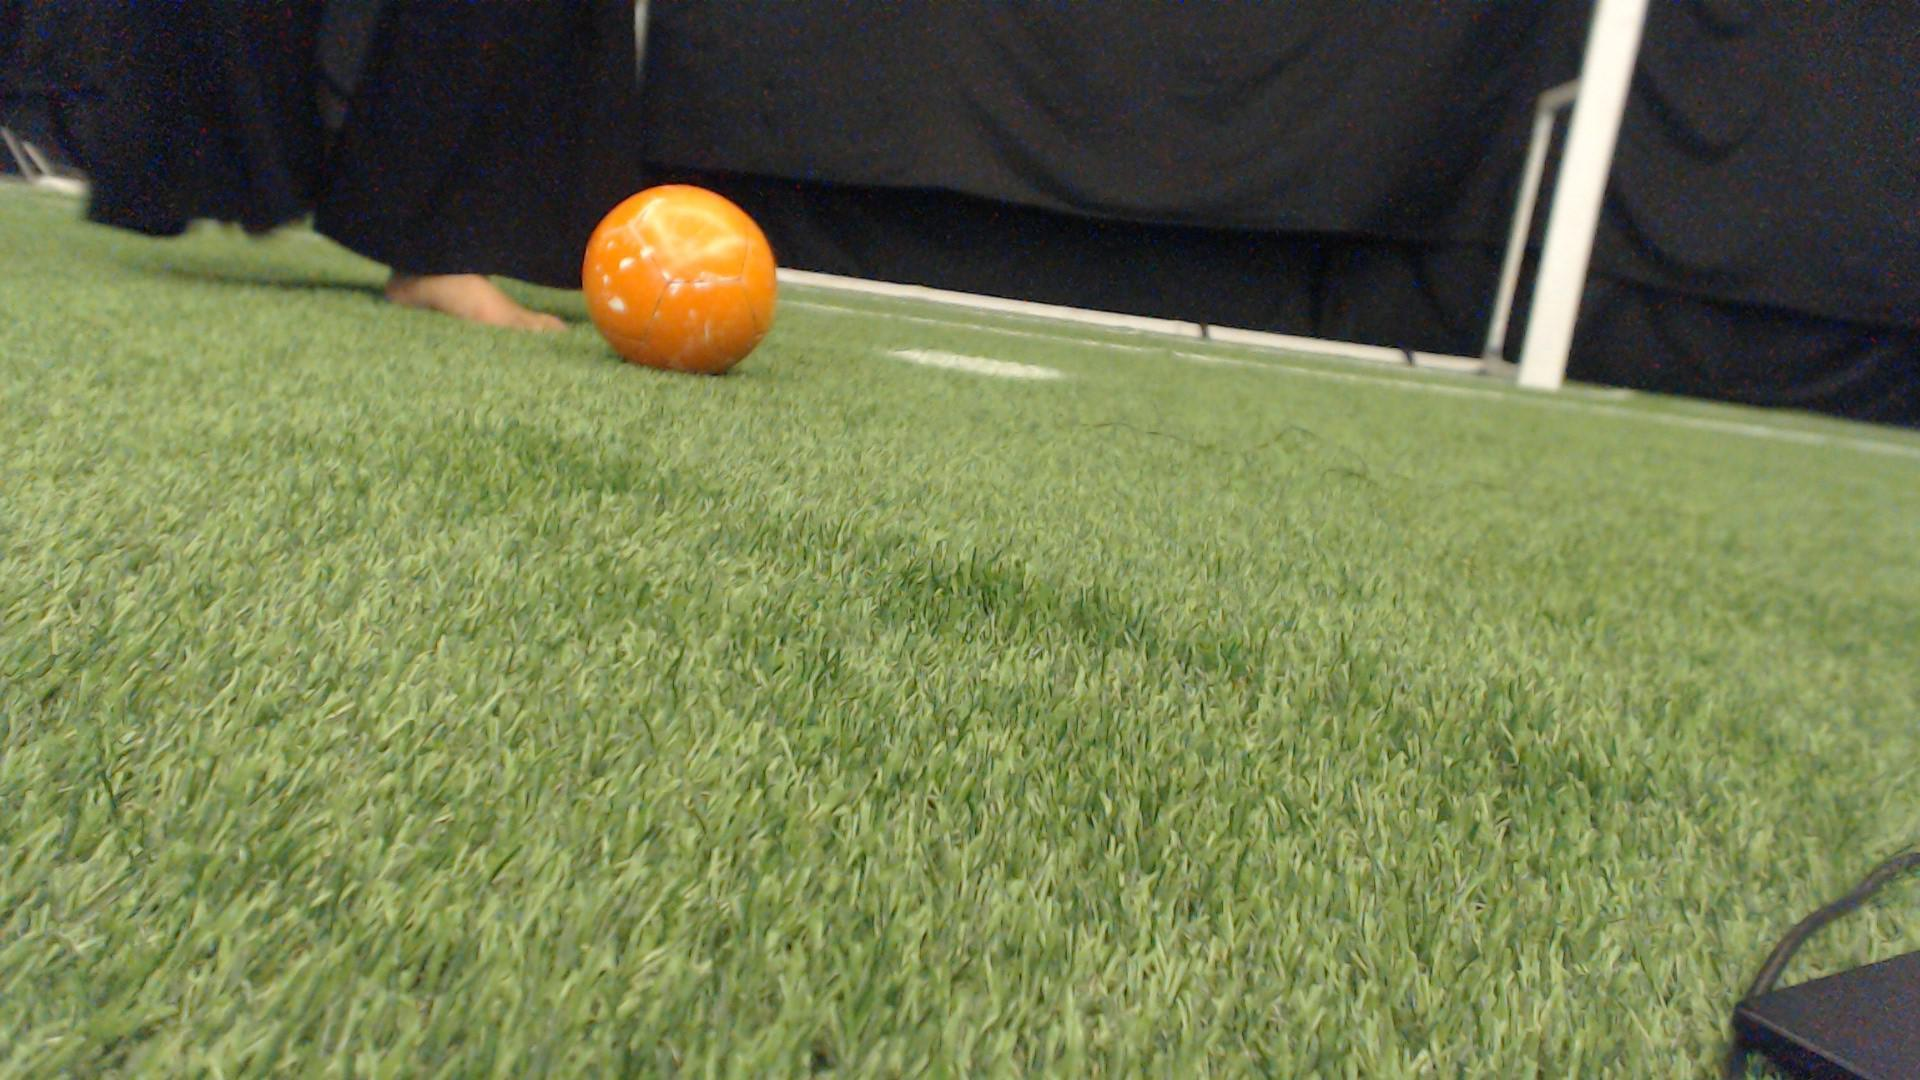bola: (575, 162, 794, 386)
